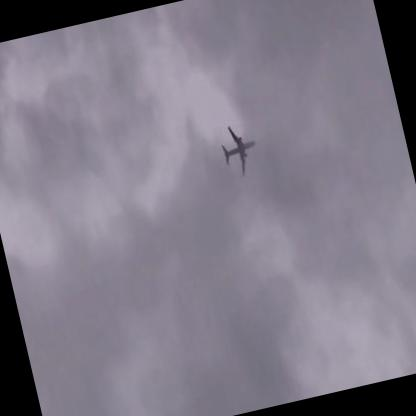plane: (216, 122, 263, 179)
